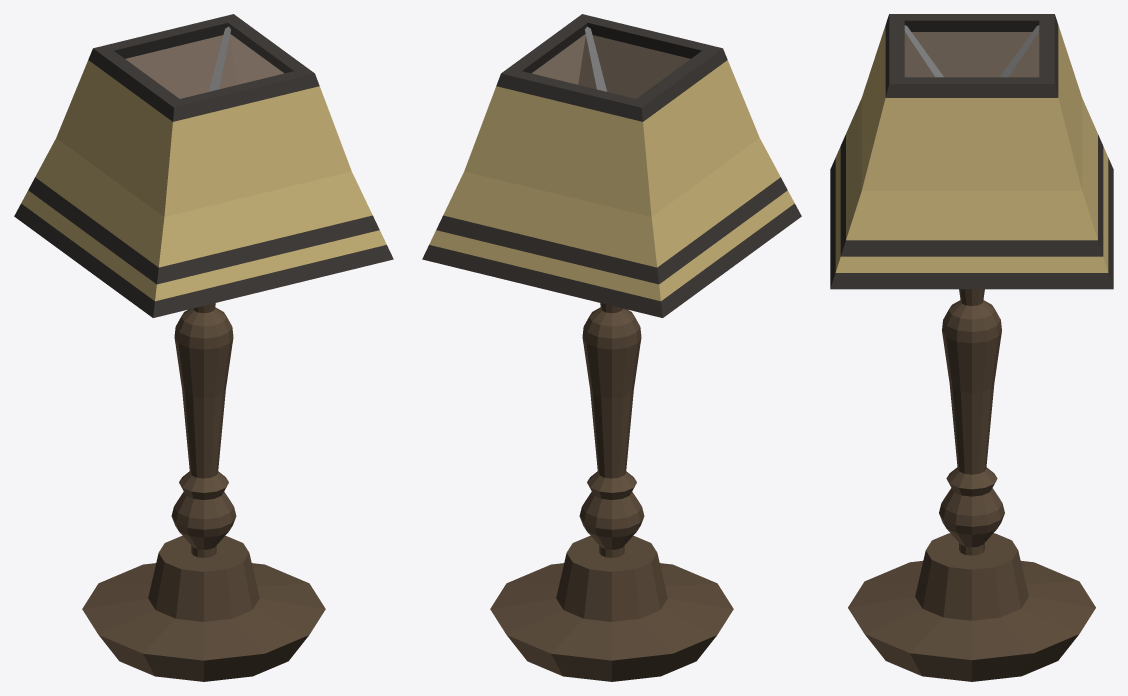
The model's file is SM_Lamp_01.glb.
The picture shows the model from 3 angles, left to right: view 1: azimuth 30°, elevation 25°; view 2: azimuth 150°, elevation 25°; view 3: azimuth 270°, elevation 25°; orthographic projection.
Visible parts, largest first — view 1: SM_Lamp_01; view 2: SM_Lamp_01; view 3: SM_Lamp_01.
Boxes of the visible parts, x1,y1,x2,y2 form: SM_Lamp_01: (14,14,393,681); SM_Lamp_01: (422,14,801,681); SM_Lamp_01: (830,14,1113,681).
Bounding box in the file's own units: 0.3737 × 0.8599 × 0.3737.
1 material, 1 textured.
